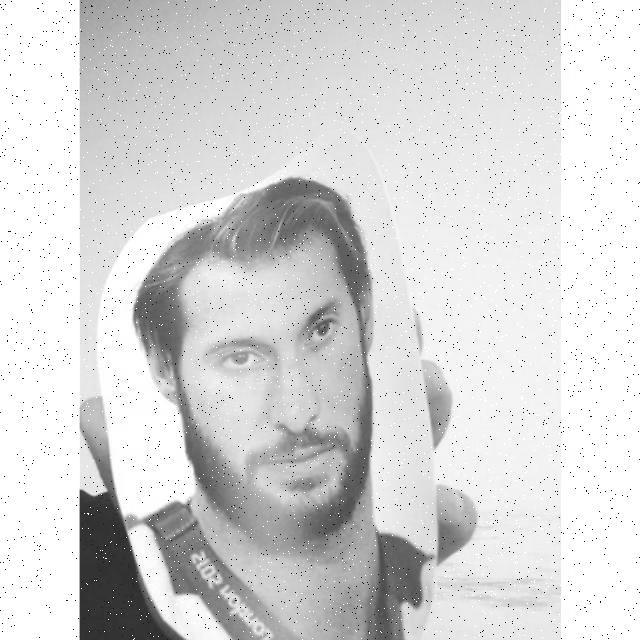fake: (81, 117, 477, 639)
